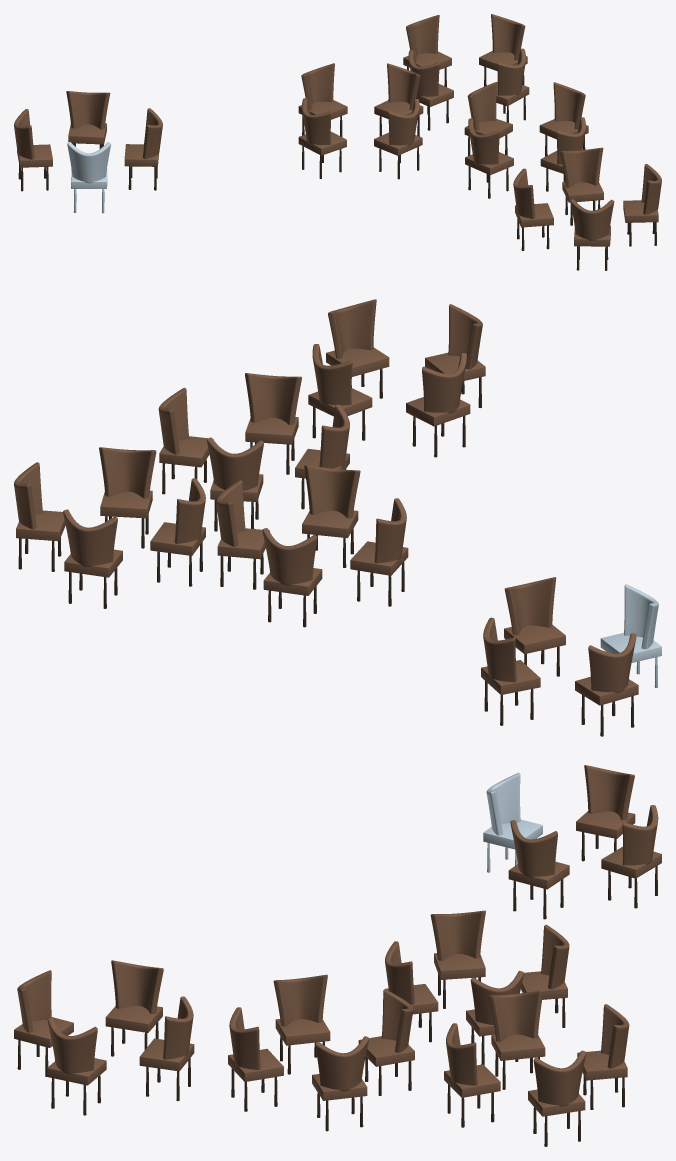
3 views of the same model, one above another, from view 1: azimuth 30°, elevation 25°; view 2: azimuth 150°, elevation 25°; view 3: azimuth 270°, elevation 25° (orthographic). The views are drawn at different scales.
Visible parts, largest first — view 1: n01237, n01233, n01239, n01243, n01235, n01245, n01249, n01246, n01244, n01247, n01241, n01250 (+8 smaller); view 2: n01244, n01248, n01240, n01232, n01236, n01250, n01246, n01234, n01238, n01233, n01247, n01245 (+8 smaller); view 3: n01251, n01238, n01243, n01247, n01234, n01241, n01249, n01236, n01232, n01242, n01239, n01240 (+8 smaller).
Boxes of the visible parts, left/top/right/bottom form: n01237: left=560, top=147, right=603, bottom=225; n01233: left=66, top=91, right=110, bottom=148; n01239: left=570, top=199, right=614, bottom=270; n01243: left=465, top=118, right=513, bottom=198; n01235: left=67, top=142, right=110, bottom=213; n01245: left=374, top=63, right=423, bottom=136; n01249: left=479, top=14, right=527, bottom=86; n01246: left=298, top=63, right=347, bottom=136; n01244: left=374, top=99, right=422, bottom=179; n01247: left=298, top=98, right=346, bottom=178; n01241: left=539, top=82, right=588, bottom=156; n01250: left=403, top=15, right=451, bottom=86; n01244: left=302, top=465, right=360, bottom=567; n01248: left=99, top=447, right=156, bottom=548; n01240: left=245, top=373, right=301, bottom=474; n01232: left=504, top=577, right=565, bottom=676; n01236: left=326, top=299, right=389, bottom=398; n01250: left=63, top=509, right=122, bottom=608; n01246: left=262, top=528, right=322, bottom=627; n01234: left=575, top=633, right=638, bottom=736; n01238: left=406, top=353, right=470, bottom=457; n01233: left=481, top=617, right=540, bottom=725; n01247: left=350, top=498, right=408, bottom=606; n01245: left=216, top=480, right=269, bottom=589; n01251: left=489, top=990, right=545, bottom=1089; n01238: left=105, top=960, right=163, bottom=1056; n01243: left=273, top=974, right=330, bottom=1074; n01247: left=430, top=910, right=485, bottom=1008; n01234: left=576, top=765, right=635, bottom=861; n01241: left=312, top=1036, right=369, bottom=1131; n01249: left=528, top=1050, right=586, bottom=1146; n01236: left=47, top=1017, right=106, bottom=1115; n01232: left=508, top=820, right=569, bottom=919; n01242: left=358, top=989, right=414, bottom=1095; n01239: left=14, top=970, right=73, bottom=1076; n01240: left=228, top=1007, right=283, bottom=1111.
Bounding box in the file's own units: 8.43 × 1.11 × 7.64.
